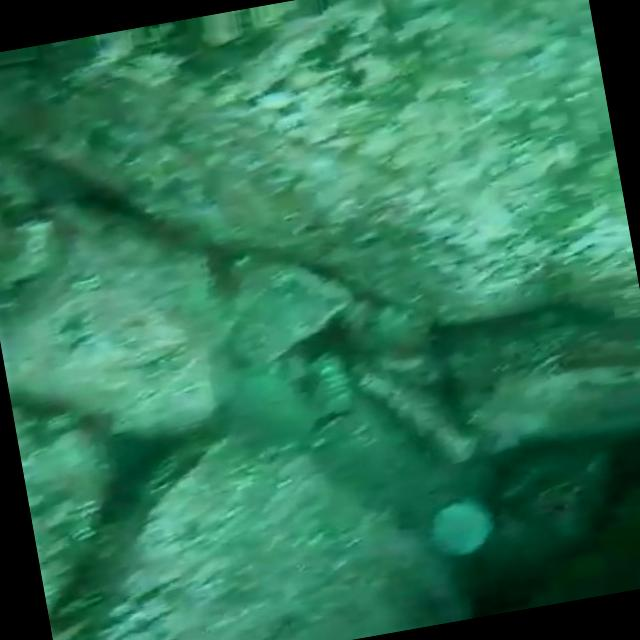Deniz Kestanesi: (424, 490, 501, 568)
